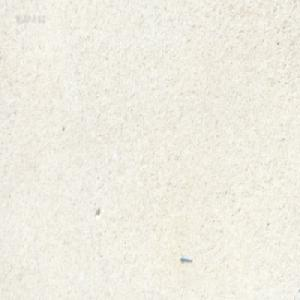Nail: (179, 255, 192, 263)
